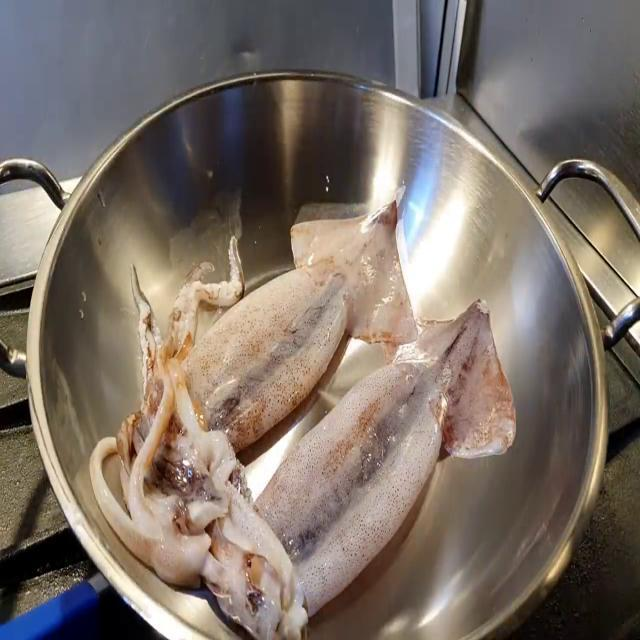squid: (191, 297, 516, 640), (120, 200, 416, 506)
